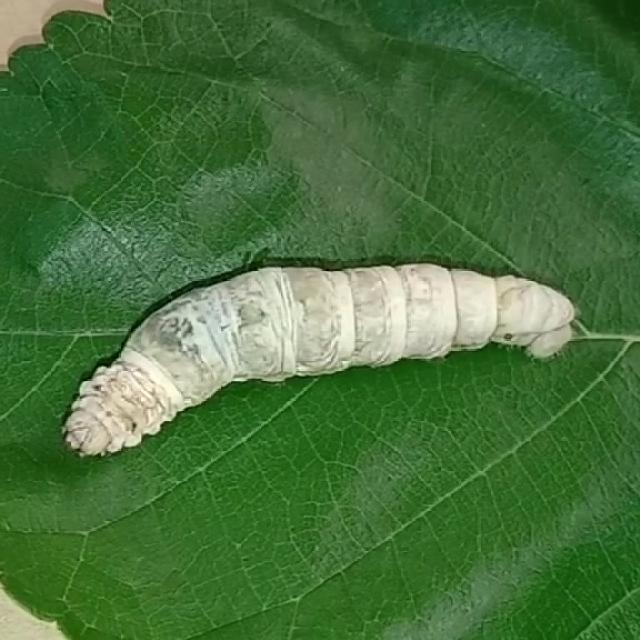Grasserie: (30, 238, 602, 477)
